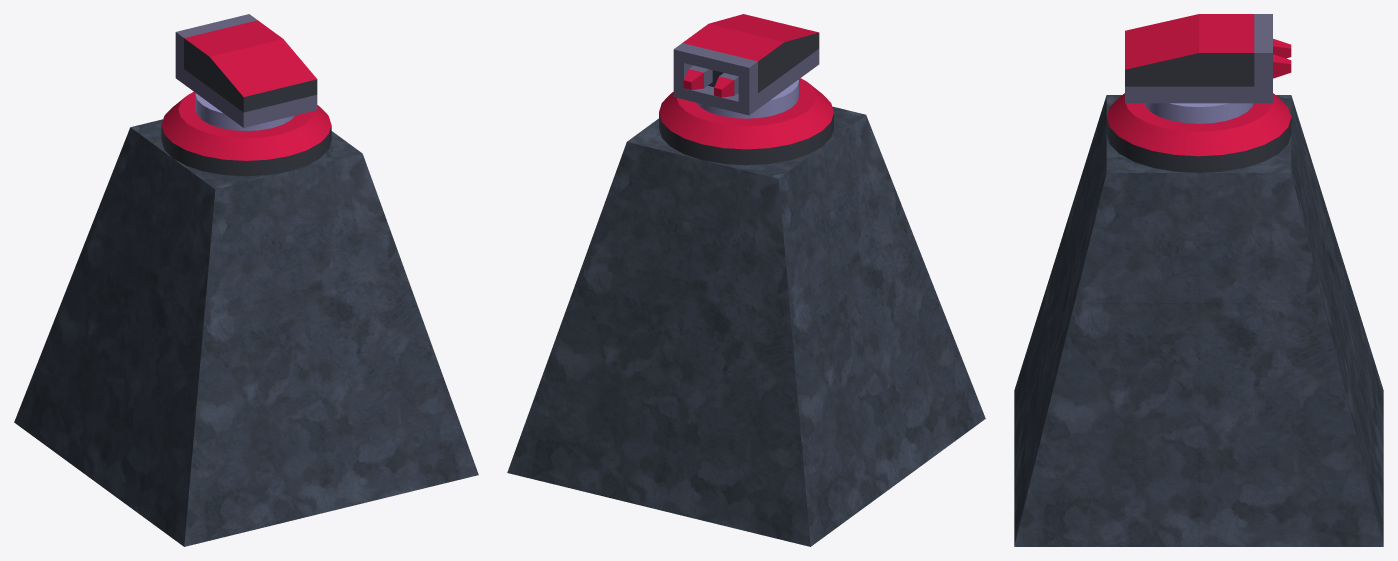
File: turret-small.glb
The picture shows the model from 3 angles, left to right: view 1: azimuth 30°, elevation 25°; view 2: azimuth 150°, elevation 25°; view 3: azimuth 270°, elevation 25°; orthographic projection. The views are drawn at different scales.
Visible parts, largest first — view 1: block_taper%, weapon_turretSmall, tank_turretRing; view 2: block_taper%, weapon_turretSmall, tank_turretRing; view 3: block_taper%, weapon_turretSmall, tank_turretRing.
Boxes of the visible parts, x1,y1,x2,y2 form: block_taper%: (14,119,478,546); weapon_turretSmall: (175,14,317,127); tank_turretRing: (161,92,331,176); block_taper%: (507,106,985,546); weapon_turretSmall: (673,14,819,115); tank_turretRing: (659,78,833,165); block_taper%: (1014,95,1383,546); weapon_turretSmall: (1125,14,1291,103); tank_turretRing: (1106,93,1291,172).
Bounding box in the file's own units: 1 × 1.3 × 1.
Materials: 7 (1 with a texture image).
